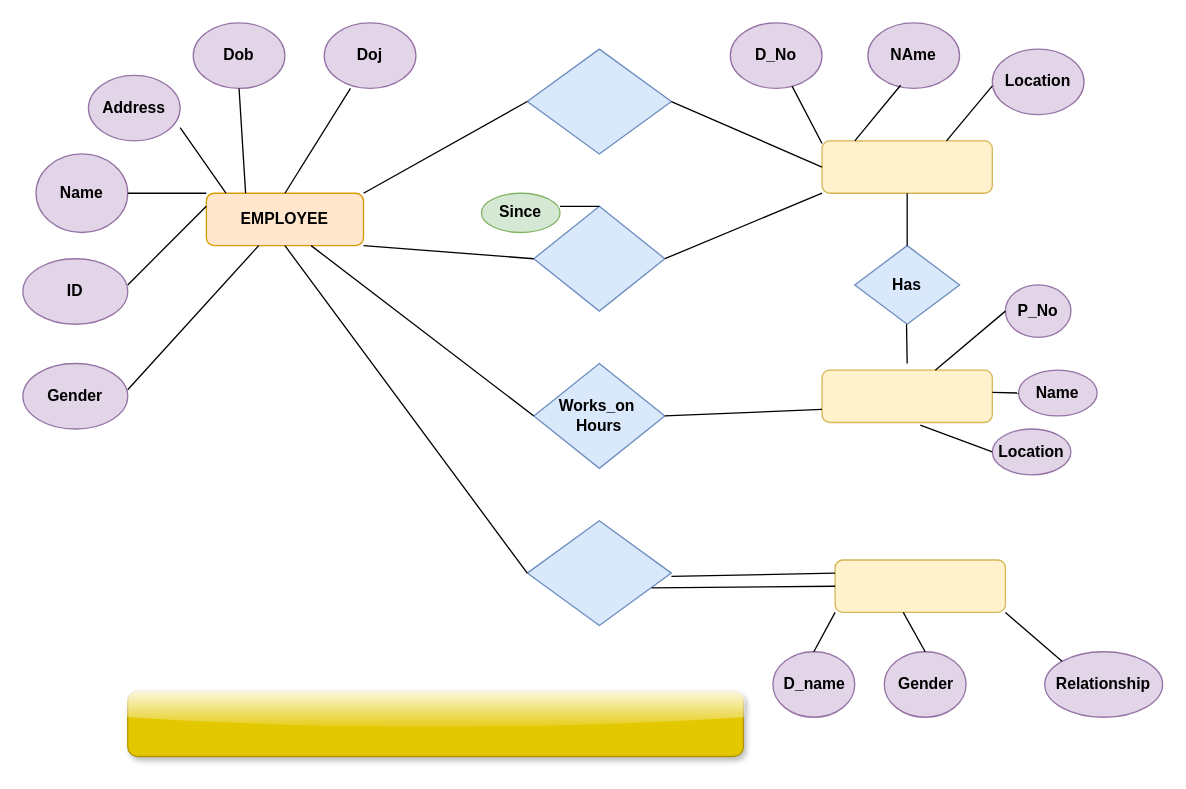
This 1186x789 diagram has some shape labels left out. Here are the shapes that lost their labels. From the top down, the centre of each, then its label:
the point at 598,101: Works_in
the point at 906,166: Department
the point at 599,258: Manager
the point at 906,395: Project
the point at 598,572: Department_of
the point at 919,585: Dependent
the point at 436,725: ER DIAGRAM OF A COMPANY
